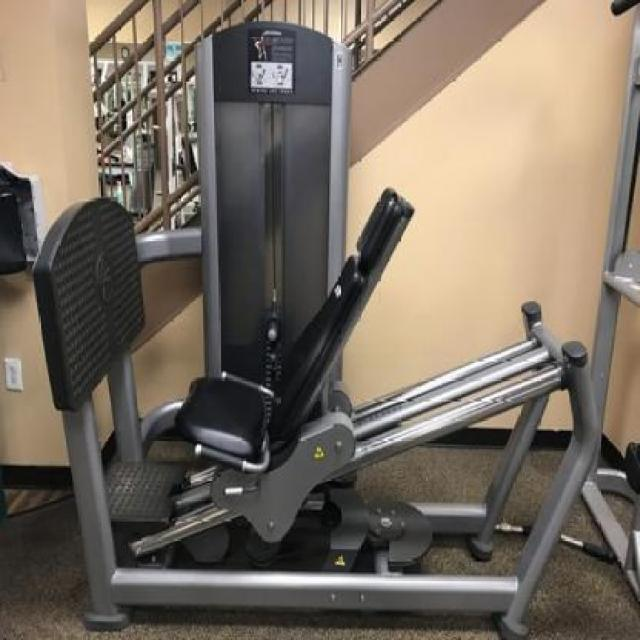leg press: (32, 18, 640, 640)
